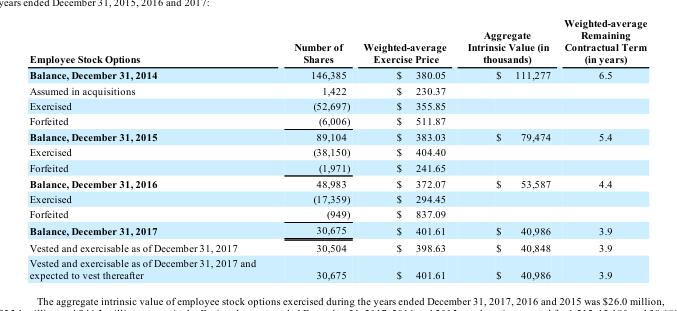table: (28, 29, 646, 280)
table column: (28, 29, 274, 280), (356, 29, 456, 280), (456, 29, 556, 280), (556, 29, 646, 280), (274, 29, 356, 280)
table column header: (28, 29, 646, 66)
table row: (28, 29, 646, 66), (28, 254, 646, 280), (28, 221, 646, 238), (28, 66, 646, 82), (28, 112, 646, 128), (28, 128, 646, 144), (28, 159, 646, 175), (28, 205, 646, 221), (28, 238, 646, 254), (28, 82, 646, 97), (28, 97, 646, 112), (28, 144, 646, 159), (28, 175, 646, 190), (28, 190, 646, 205)
